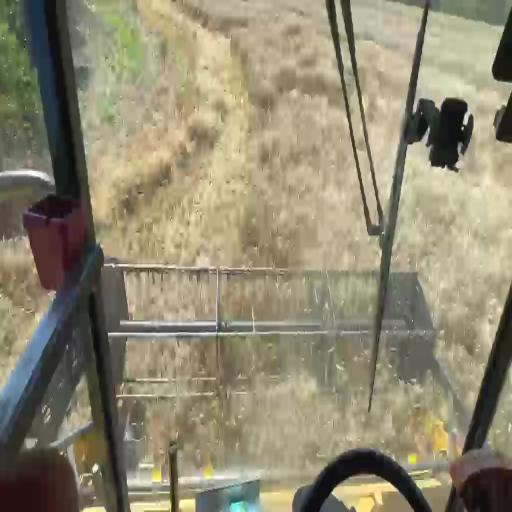arpa: (57, 0, 512, 477), (351, 0, 422, 217)
